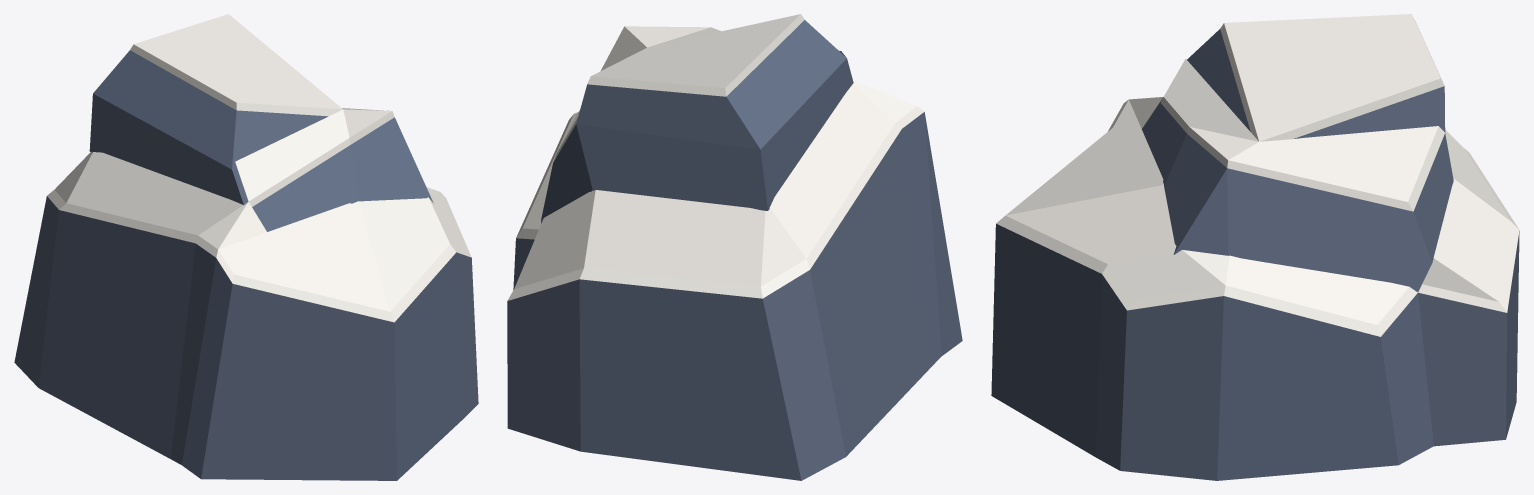
Rendered from Rock_Snow_7.glb.
The picture shows the model from 3 angles, left to right: view 1: azimuth 30°, elevation 25°; view 2: azimuth 150°, elevation 25°; view 3: azimuth 270°, elevation 25°; orthographic projection. The views are drawn at different scales.
Parts seen in each view (by area): view 1: Rock_Snow_7; view 2: Rock_Snow_7; view 3: Rock_Snow_7.
Part boxes in pixels (x1,y1,x2,y2): Rock_Snow_7: (14,14,478,480); Rock_Snow_7: (507,14,962,480); Rock_Snow_7: (991,14,1519,480).
Bounding box in the file's own units: 0.8755 × 0.7893 × 1.1.
